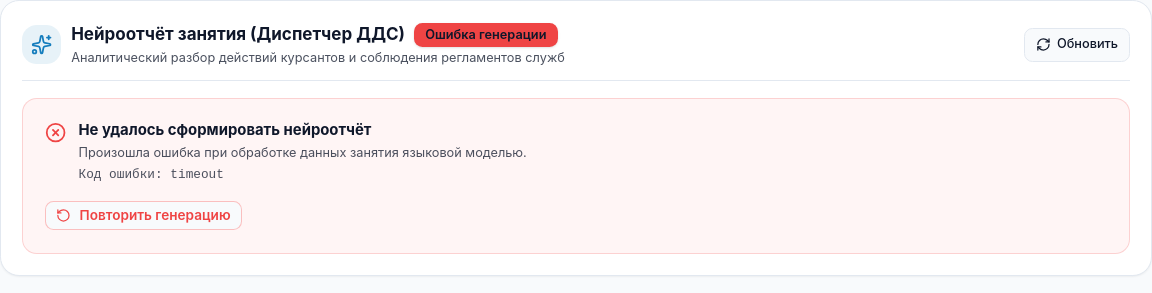
Test: DDSLessonReport Component (A-05) › 6. Handles failed status and allows explicit retry with { retry: true }
The image size is (1152, 293).
Expected: the element with test id "dds-report-failed" is shown, x1=22 y1=98 x2=1130 y2=254
Expected: the text "Не удалось сформировать нейроотчёт" is shown, x1=78 y1=121 x2=371 y2=139
Click the button with test id "dds-report-retry-btn" at [143, 216], box x1=44 y1=201 x2=242 y2=230
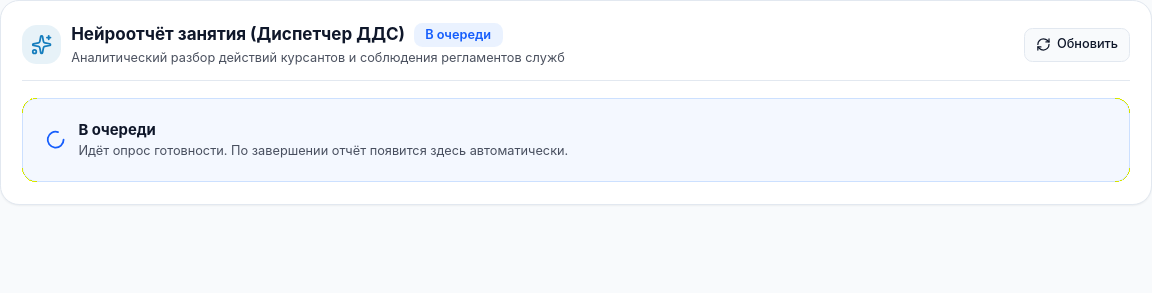
Expected: the element with test id "dds-report-progress" is shown, x1=22 y1=98 x2=1130 y2=182
